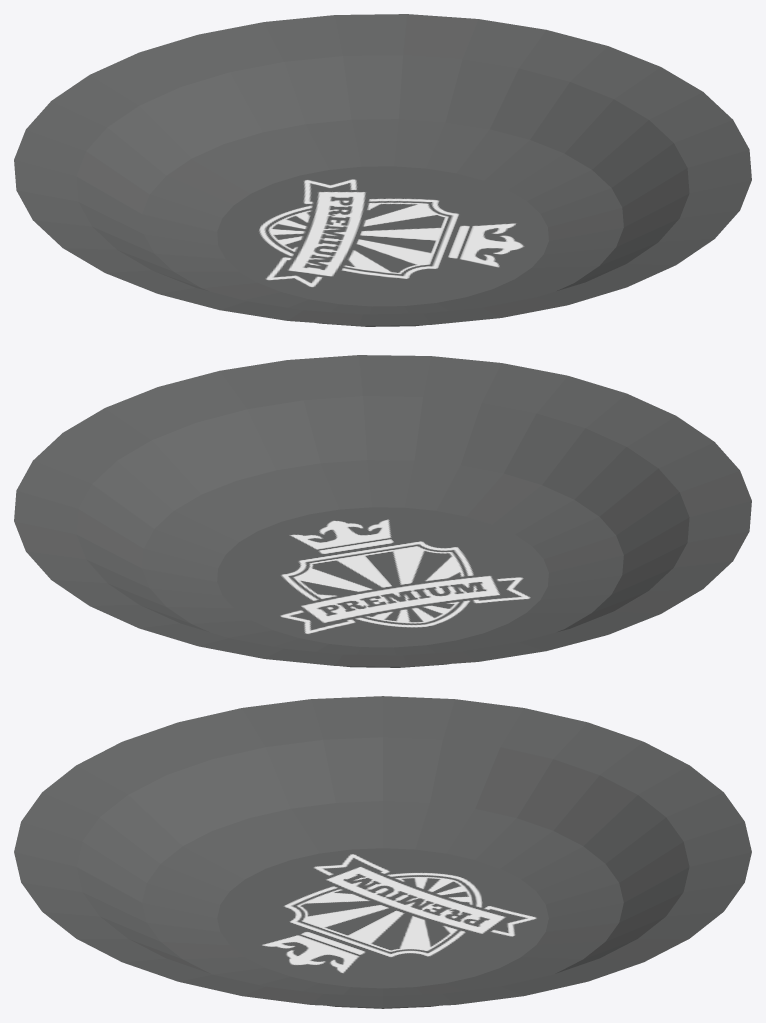
File: Metal Plate.fbx
3 views of the same model, one above another, from view 1: azimuth 30°, elevation 25°; view 2: azimuth 150°, elevation 25°; view 3: azimuth 270°, elevation 25° (orthographic).
Parts seen in each view (by area): view 1: Sphere; view 2: Sphere; view 3: Sphere.
Part boxes in pixels (left/top/right/bottom): Sphere: left=14, top=14, right=751, bottom=326; Sphere: left=14, top=355, right=751, bottom=667; Sphere: left=14, top=696, right=751, bottom=1008.
Bounding box in the file's own units: 169 × 17.52 × 169.
1 material, 1 textured.
